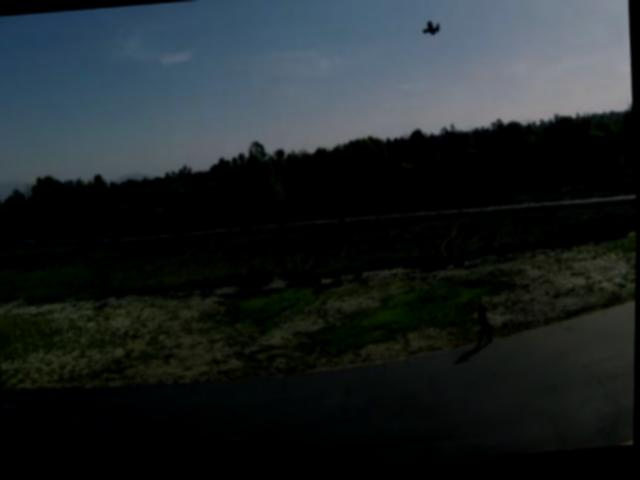iha: (417, 19, 451, 43)
